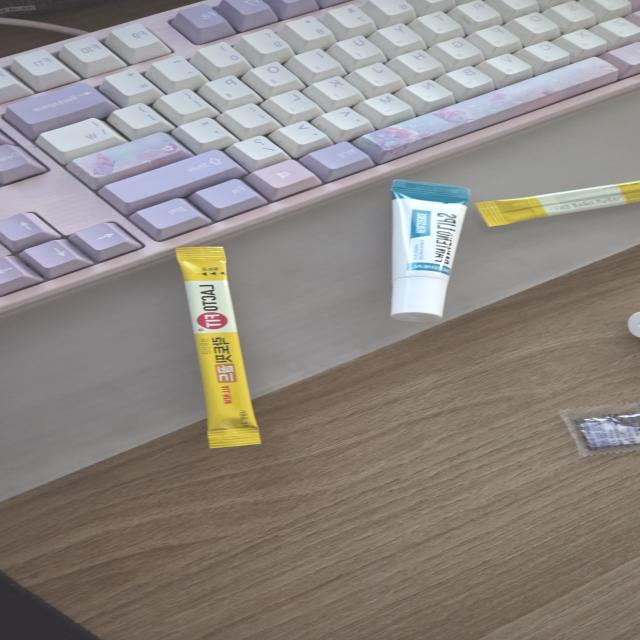lacto: (177, 247, 269, 450), (476, 181, 639, 230)
lib: (384, 178, 469, 323), (626, 311, 640, 339)
salt: (558, 401, 640, 458)
